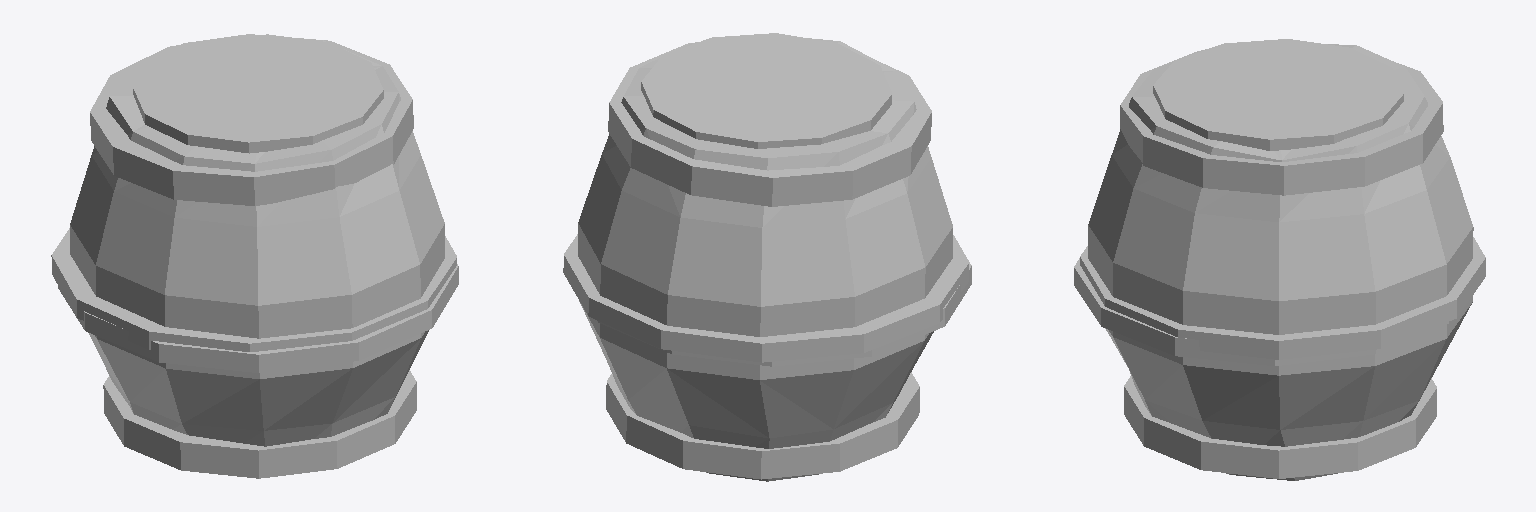
The model's file is barrel.obj.
3 views of the same model, side by side, from view 1: azimuth 30°, elevation 25°; view 2: azimuth 150°, elevation 25°; view 3: azimuth 270°, elevation 25° (orthographic).
Size of the model in its own units: 0.7898 by 0.7302 by 0.8016.